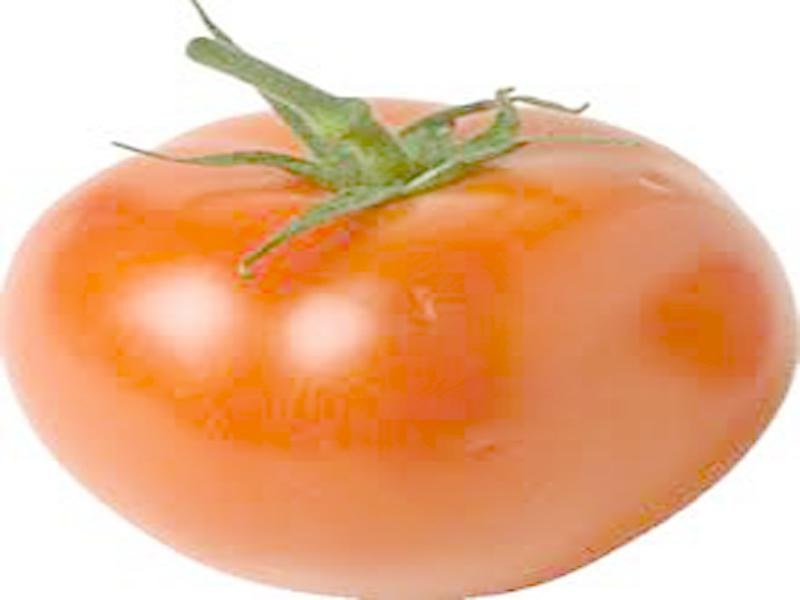Tomato: (4, 94, 800, 592)
